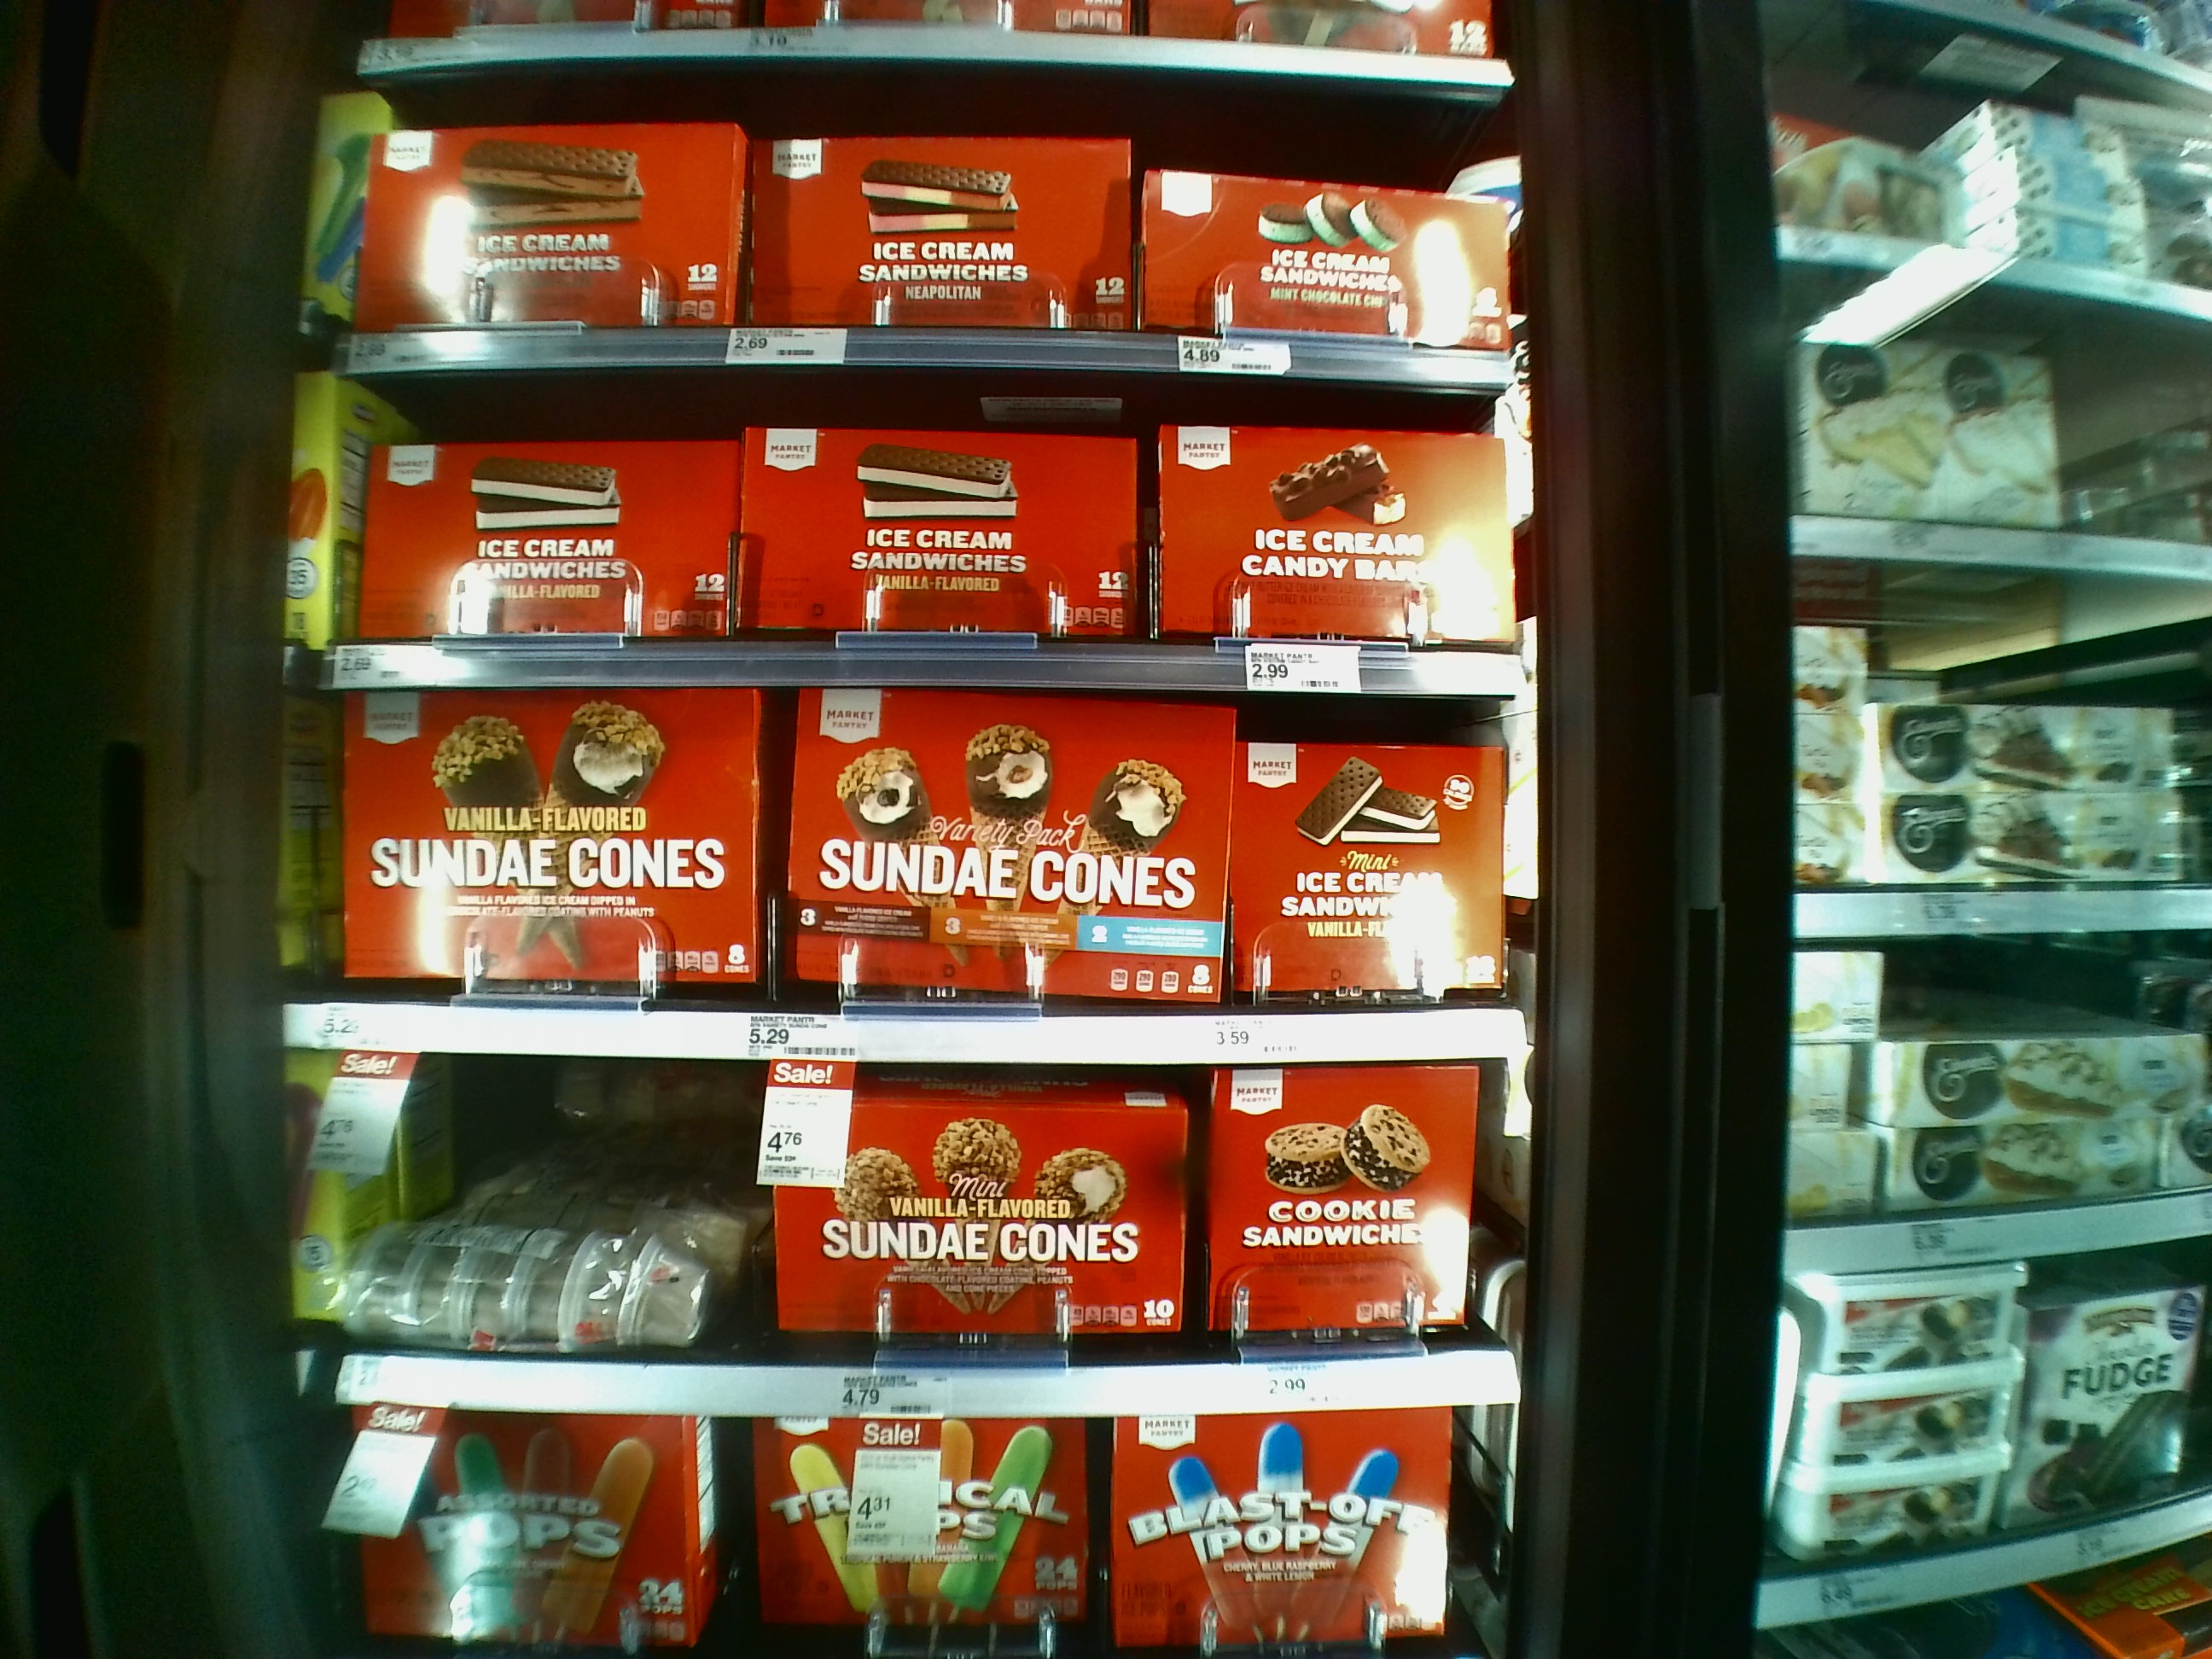shelf: (327, 694, 1521, 1053), (352, 1061, 1517, 1408), (361, 383, 1547, 708), (354, 92, 1521, 382)
